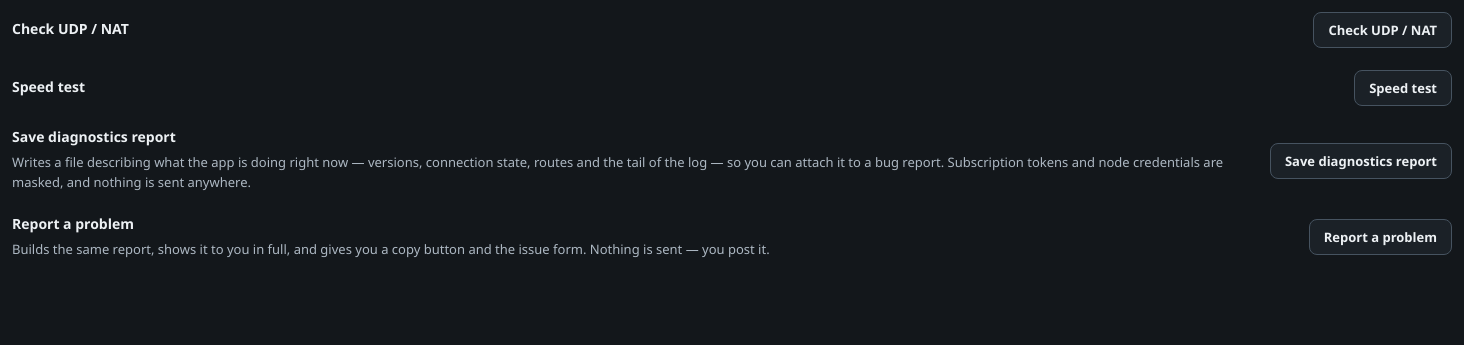
it: DiagnosticsPanel › speed test › runs when connected and reports the throughput and sample
This screenshot has width=1464, height=345.
Click the button "Speed test" at (1403, 88), box x1=1354 y1=70 x2=1452 y2=106
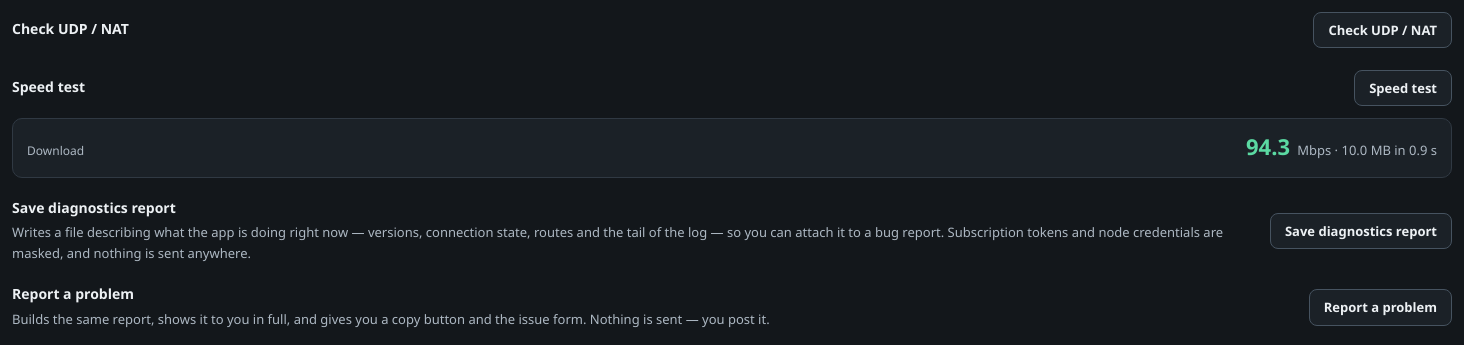
Check: the text "94.3" is shown, box x1=1246 y1=132 x2=1290 y2=162
Check: the text "Mbps" is shown, box x1=1297 y1=141 x2=1331 y2=159
Check: the text "· 10.0 MB in 0.9 s" is shown, box x1=1331 y1=141 x2=1437 y2=159
